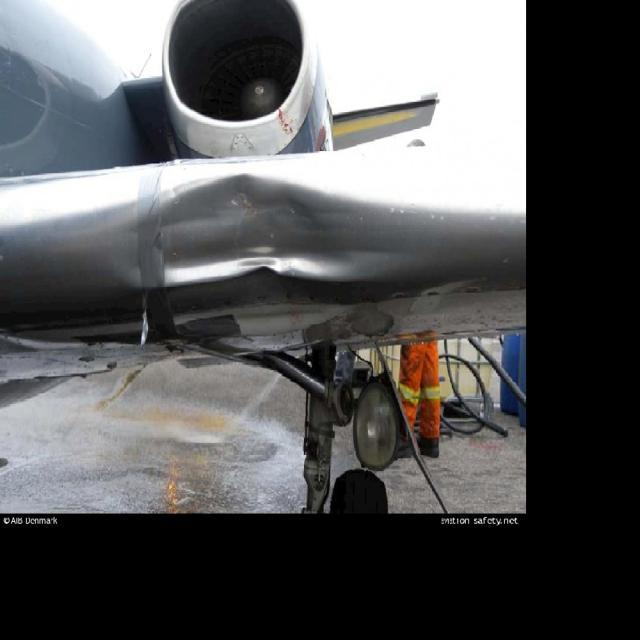dent: (121, 177, 423, 285)
